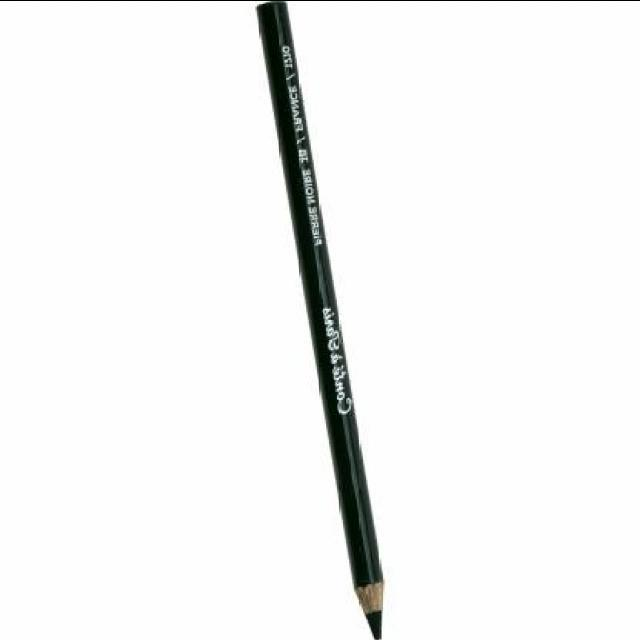pencil: (345, 565, 398, 640)
